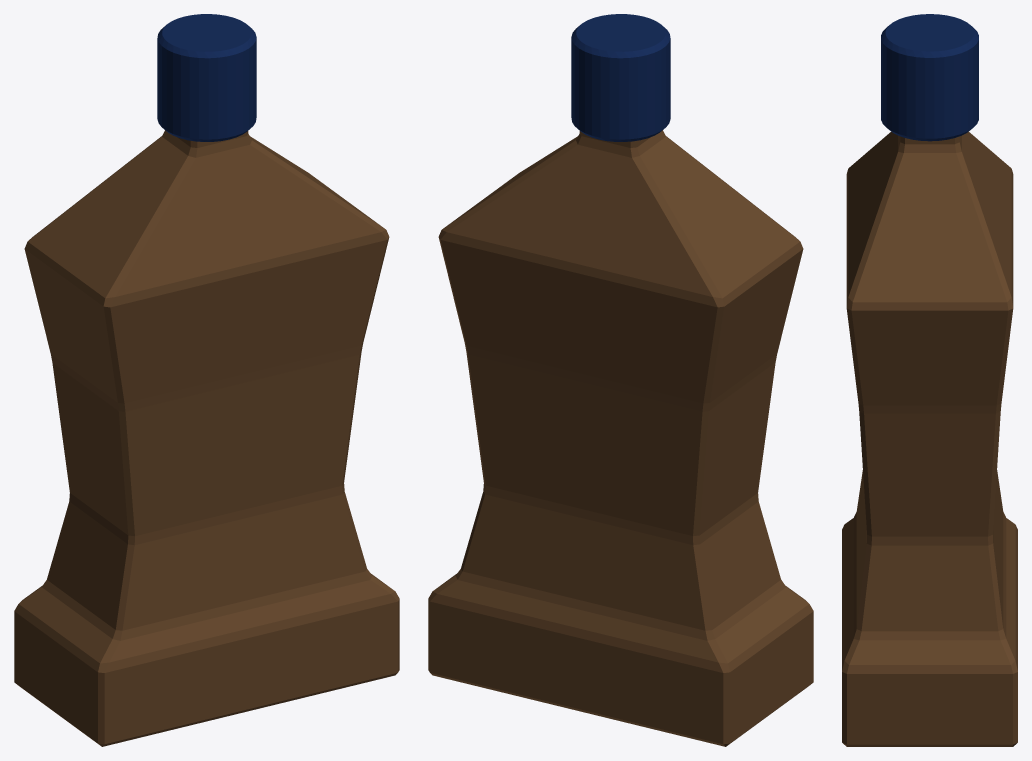
File: bbq.fbx
The picture shows the model from 3 angles, left to right: view 1: azimuth 30°, elevation 25°; view 2: azimuth 150°, elevation 25°; view 3: azimuth 270°, elevation 25°; orthographic projection.
Parts seen in each view (by area): view 1: Cylinder; view 2: Cylinder; view 3: Cylinder.
Part boxes in pixels (bbox=[...]): Cylinder: bbox=[14, 14, 399, 746]; Cylinder: bbox=[428, 14, 813, 746]; Cylinder: bbox=[842, 14, 1017, 746].
Size of the model in its own units: 242 by 496 by 123.
